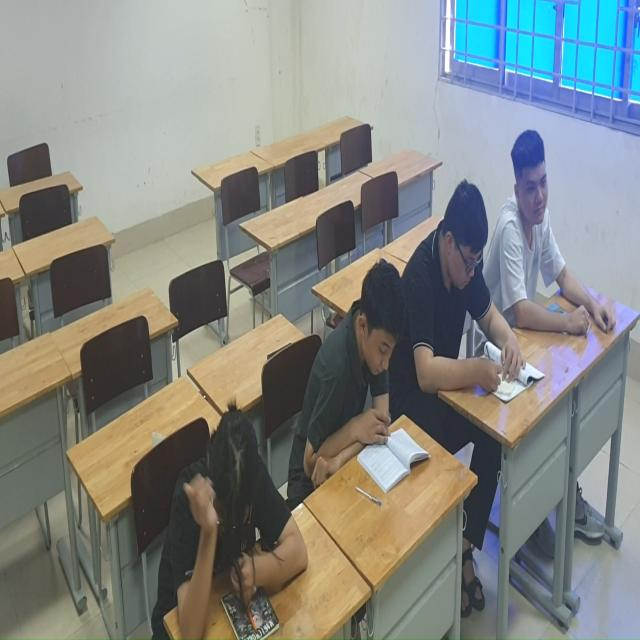read: (301, 254, 433, 505), (494, 122, 620, 343), (417, 184, 529, 431)
sleep: (152, 391, 311, 640)
